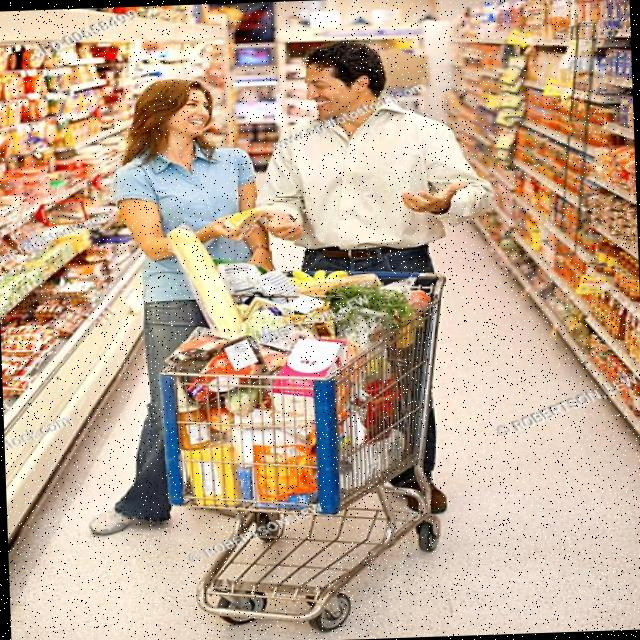Person: (260, 37, 506, 518), (74, 73, 280, 530)
